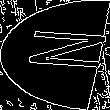N_E: (5, 32, 105, 78)
